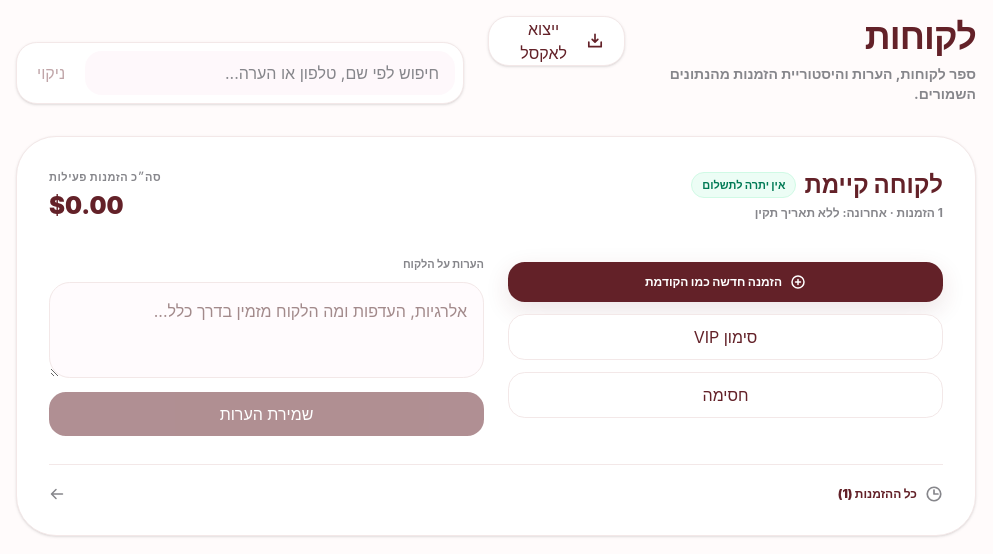
Test: CustomersScreen › renders a query-specific empty state as text rather than markup
Type "<script>" into the search field named "חיפוש לקוחות".
click(270, 73); type("<script>")  # box [85,51,455,95]
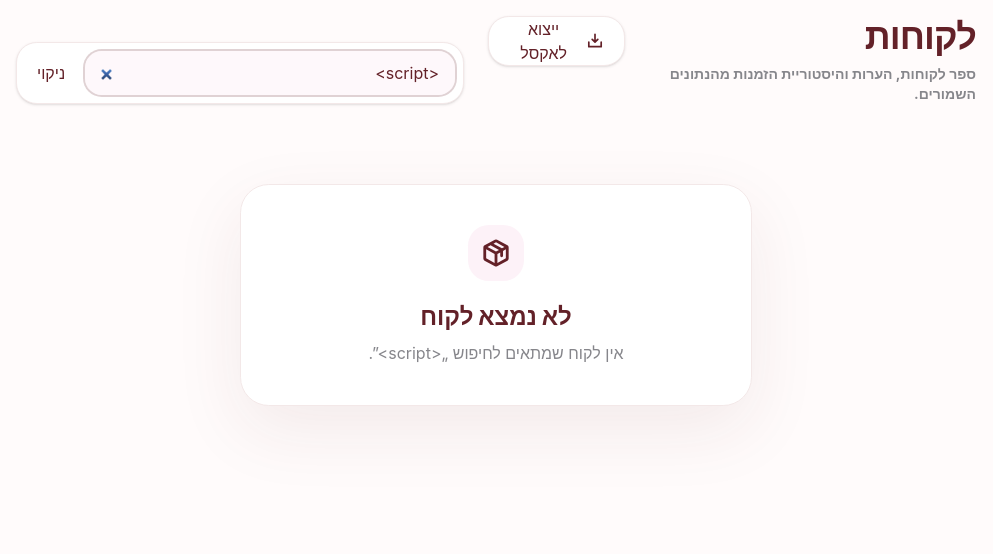
expect the heading "לא נמצא לקוח" is shown: met, box [420,302,572,331]
expect the text "אין לקוח שמתאים לחיפוש „<script>”." is shown: met, box [368,343,624,363]
